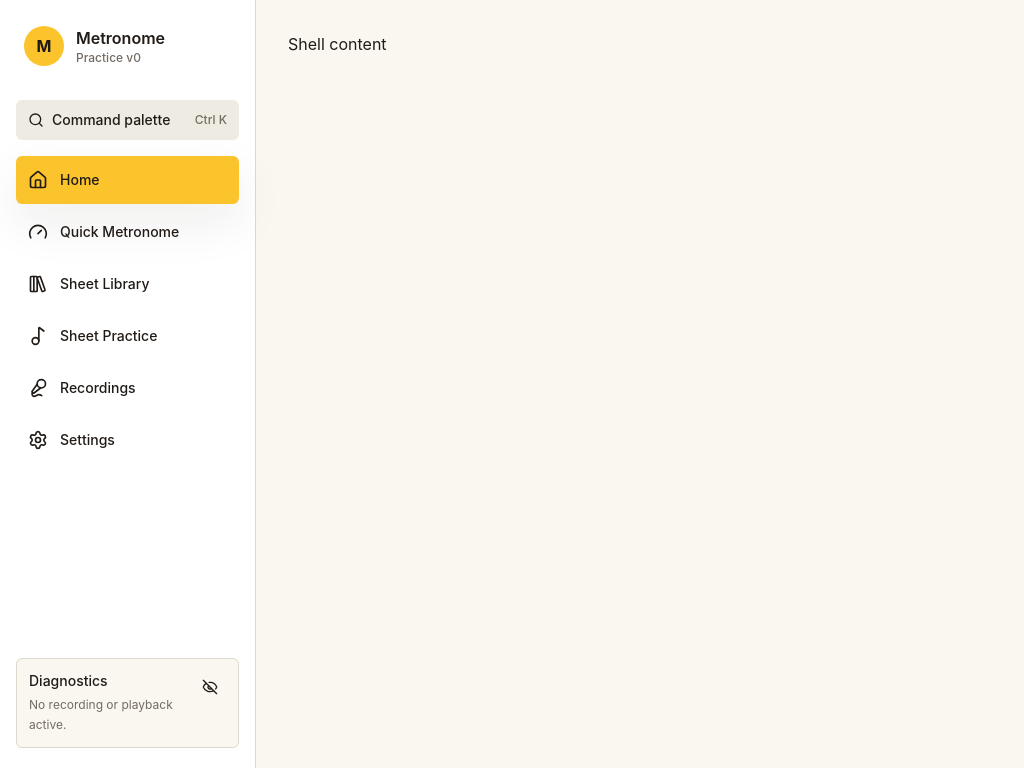
Test: AppShell › keeps click execution on the active-recording guarded navigation path
This screenshot has width=1024, height=768.
Type keys "{Control>}k{/Control}"
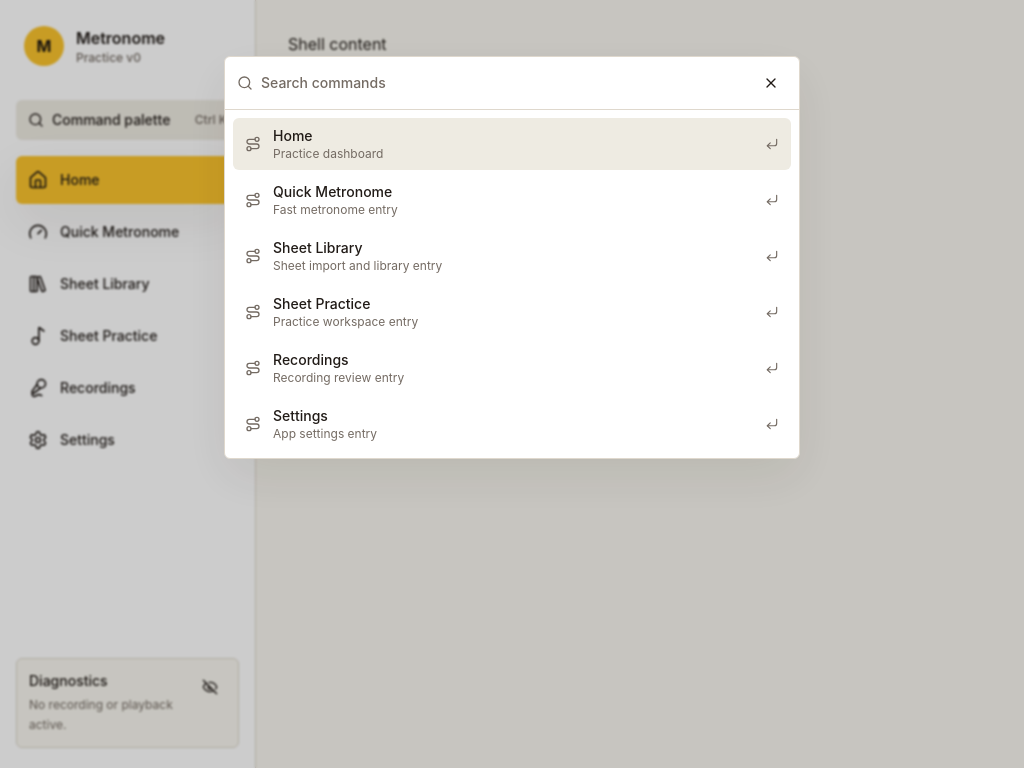
Type "recordings" into the dropdown labelled "Search commands" at (504, 83), box left=261, top=73, right=747, bottom=93
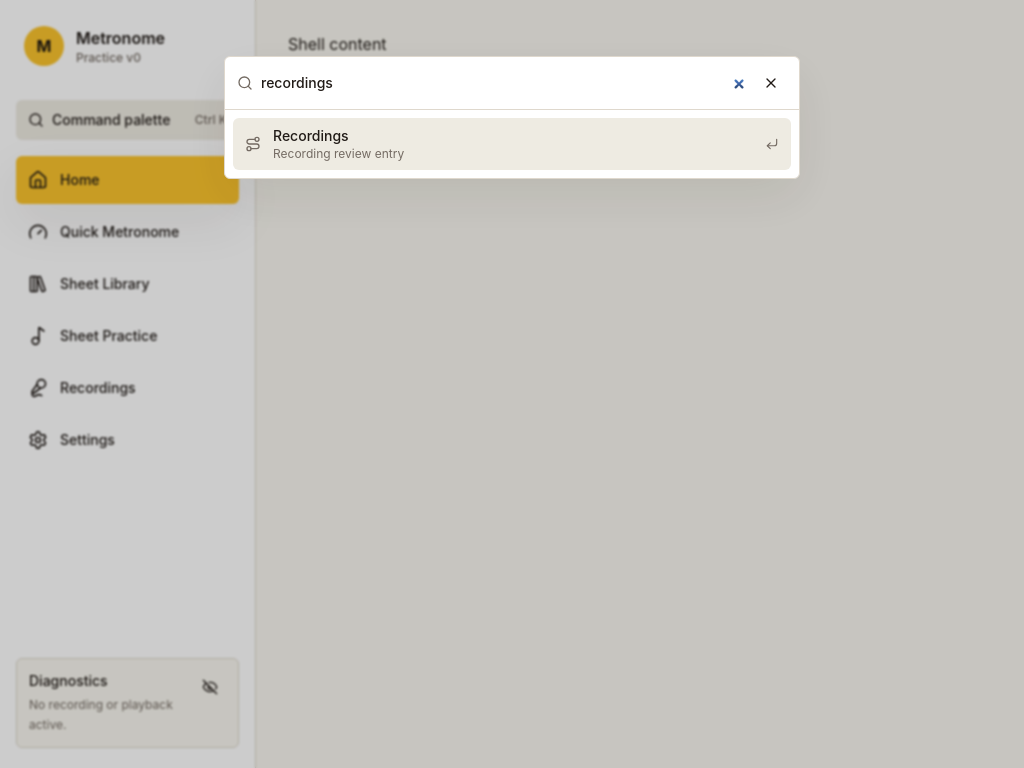
Click the option "Recordings Recording review entry" at (311, 136), box left=233, top=118, right=791, bottom=170
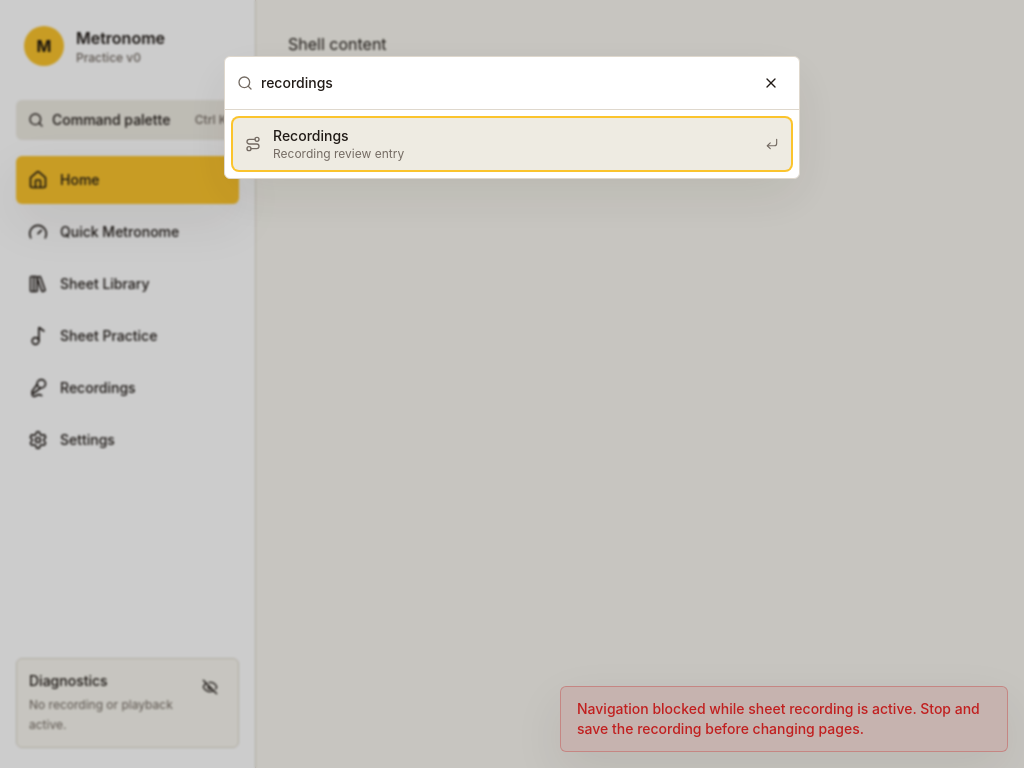
Expected: the message with test id "active-recording-navigation-guard" shows "Navigation blocked while sheet recording is active.", left=577, top=700, right=980, bottom=737
